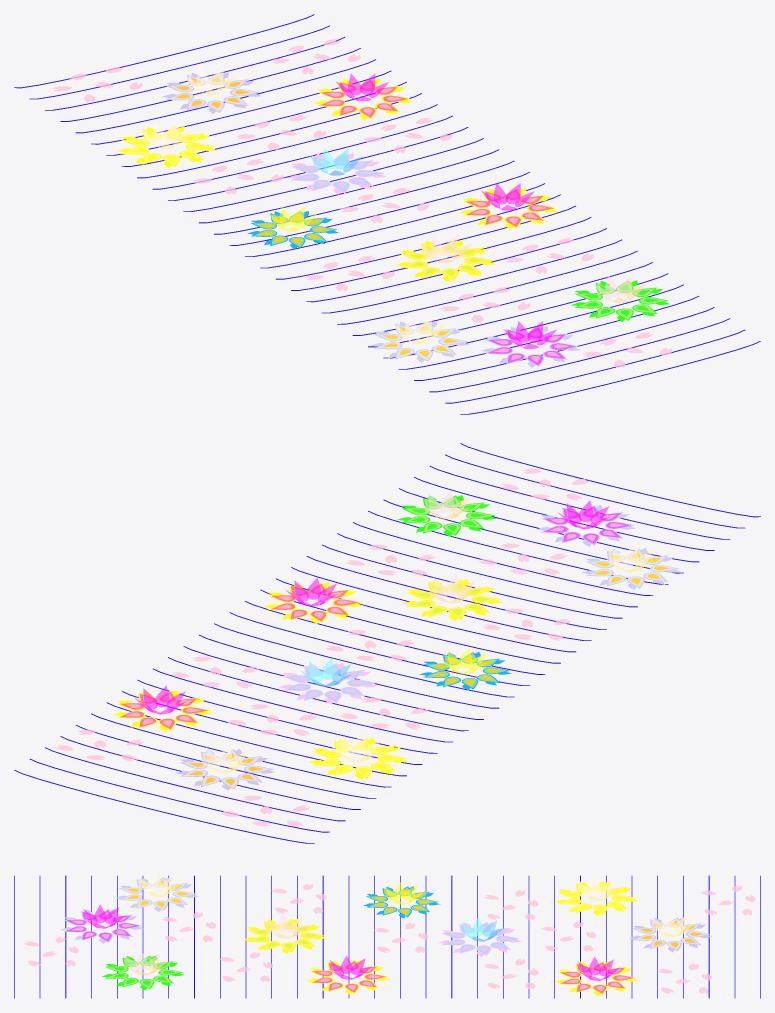
File: decoracion_rio.glb
3 views of the same model, one above another, from view 1: azimuth 30°, elevation 25°; view 2: azimuth 150°, elevation 25°; view 3: azimuth 270°, elevation 25° (orthographic). The views are drawn at different scales.
Visible parts, largest first — view 1: Curva_Bezier, Círculo.038, Círculo.048, Círculo.018, Círculo.003, Círculo.030, Círculo.025, Círculo.045, Círculo.035, Círculo.015, Círculo.010, Círculo.031 (+17 smaller); view 2: Curva_Bezier, Círculo.003, Círculo.038, Círculo.018, Círculo.048, Círculo.035, Círculo.030, Círculo.045, Círculo.025, Círculo.015, Círculo.010, Círculo.002 (+17 smaller); view 3: Curva_Bezier, Círculo.038, Círculo.003, Círculo.018, Círculo.048, Círculo.035, Círculo.030, Círculo.015, Círculo.045, Círculo.025, Círculo.010, Círculo.016 (+39 smaller).
Boxes of the visible parts, x1,y1,x2,y2 form: Curva_Bezier: (14,14,760,414); Círculo.038: (317,79,410,118); Círculo.048: (166,72,258,112); Círculo.018: (485,326,578,366); Círculo.003: (463,188,556,228); Círculo.030: (374,321,467,361); Círculo.025: (575,280,667,320); Círculo.045: (121,127,215,166); Círculo.035: (291,153,384,193); Círculo.015: (400,240,493,280); Círculo.010: (251,211,336,248); Círculo.031: (377,323,464,359); Curva_Bezier: (14,443,760,843); Círculo.003: (268,582,361,622); Círculo.038: (117,690,210,730); Círculo.018: (540,505,634,545); Círculo.048: (180,749,273,789); Círculo.035: (282,663,376,703); Círculo.030: (586,548,679,588); Círculo.045: (313,738,406,778); Círculo.025: (402,495,495,535); Círculo.015: (407,579,500,619); Círculo.010: (424,652,510,689); Círculo.002: (271,584,358,621); Curva_Bezier: (14,875,760,998); Círculo.038: (558,961,636,994); Círculo.003: (310,960,387,993); Círculo.018: (64,909,141,942); Círculo.048: (632,917,710,950); Círculo.035: (442,922,519,955); Círculo.030: (119,877,196,910); Círculo.015: (247,919,324,952); Círculo.045: (558,881,636,914); Círculo.025: (105,955,183,989); Círculo.010: (366,886,438,917); Círculo.016: (249,920,321,950).
Size of the model in its own units: 60.75 by 3.9 by 156.
